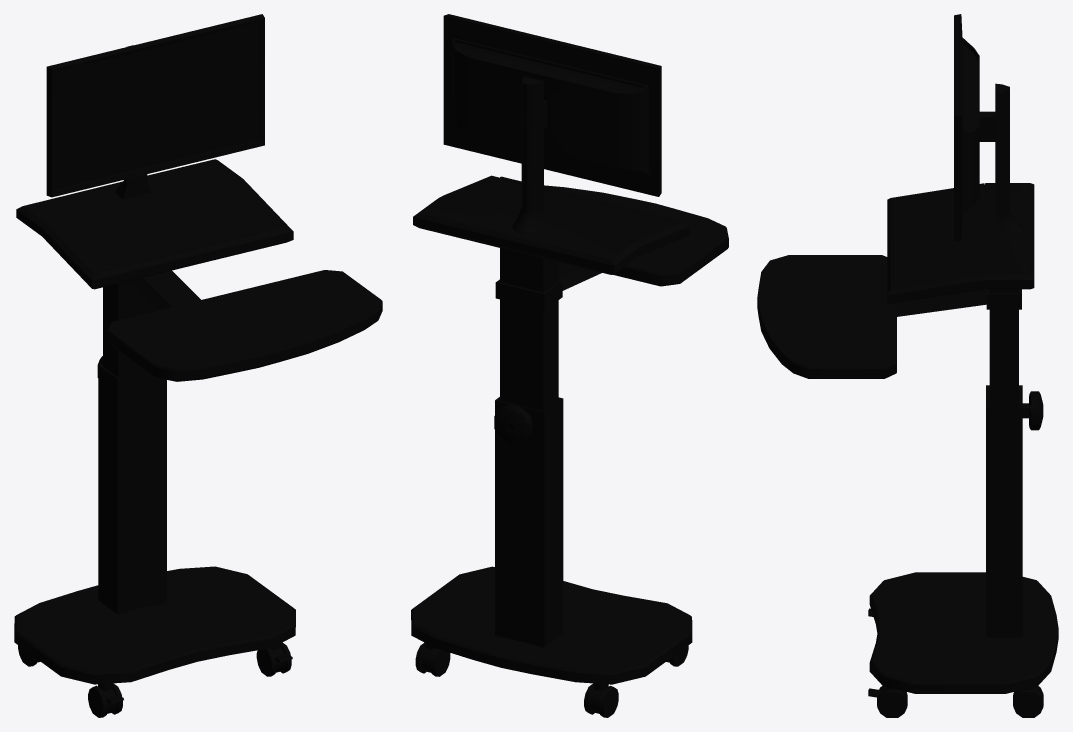
Rendered from MobileComputerStand.fbx.
3 renders of one model, left to right at view 1: azimuth 30°, elevation 25°; view 2: azimuth 150°, elevation 25°; view 3: azimuth 270°, elevation 25°, orthographic. The views are drawn at different scales.
Visible parts, largest first — view 1: pCube6; view 2: pCube6; view 3: pCube6.
Part boxes in pixels (box(x1,y1,x2,y2)): pCube6: box(14, 14, 382, 717); pCube6: box(411, 14, 728, 717); pCube6: box(757, 14, 1058, 717).
Bounding box in the file's own units: 20.02 × 44.98 × 20.18.
